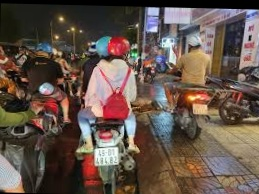Bien-so: (94, 148, 120, 167), (193, 102, 210, 115)
